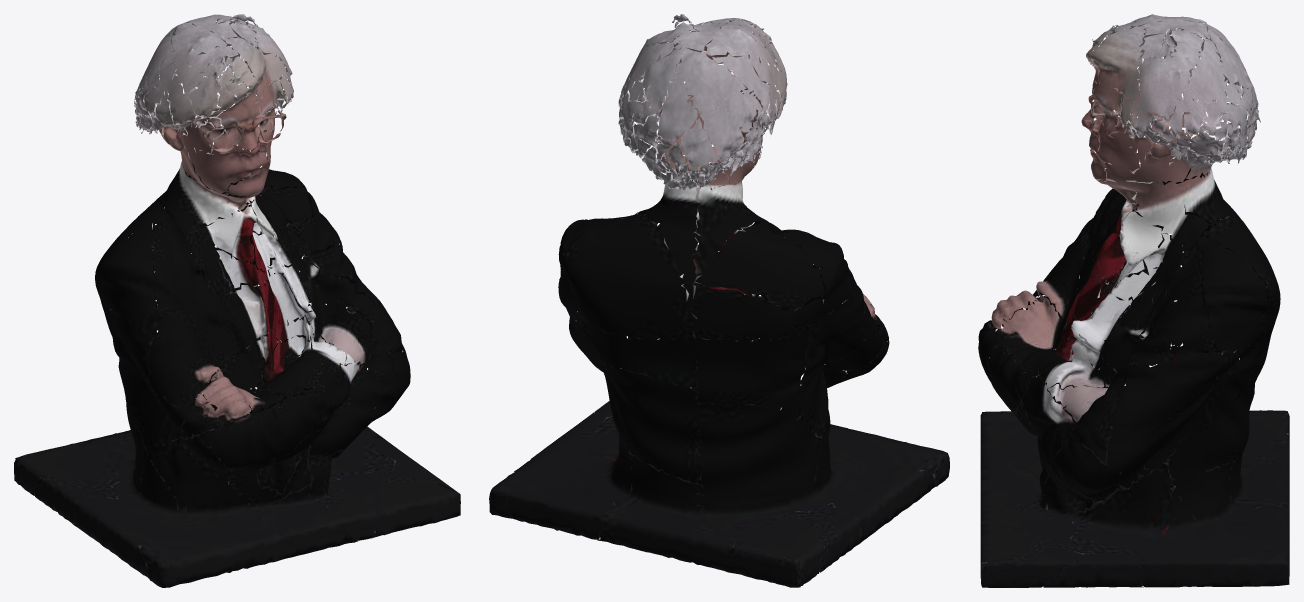
File: Warhol_Studio_compressed.glb
3 renders of one model, left to right at view 1: azimuth 30°, elevation 25°; view 2: azimuth 150°, elevation 25°; view 3: azimuth 270°, elevation 25°, orthographic. The views are drawn at different scales.
Size of the model in its own units: 1.27 by 1.89 by 1.09.
Materials: 1 (1 with a texture image).
